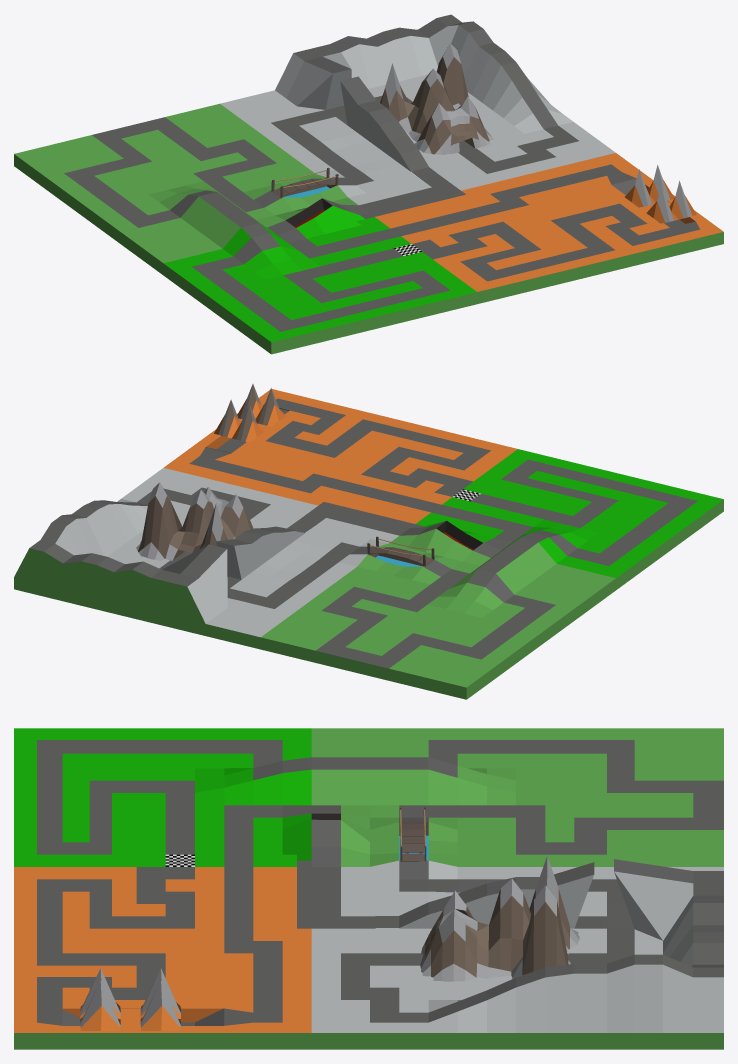
File: sceneCourse2_1.fbx
3 views of the same model, one above another, from view 1: azimuth 30°, elevation 25°; view 2: azimuth 150°, elevation 25°; view 3: azimuth 270°, elevation 25° (orthographic). The views are drawn at different scales.
Visible parts, largest first — view 1: Plane, Mountain, MountainUnder; view 2: Plane, Mountain, MountainUnder; view 3: Plane, Mountain, MountainUnder.
Boxes of the visible parts, left/top/right/bottom form: Plane: left=14, top=14, right=723, bottom=354; Mountain: left=380, top=43, right=493, bottom=154; MountainUnder: left=625, top=165, right=696, bottom=223; Plane: left=14, top=389, right=723, bottom=699; Mountain: left=136, top=482, right=253, bottom=560; MountainUnder: left=214, top=384, right=285, bottom=442; Plane: left=14, top=728, right=723, bottom=1049; Mountain: left=420, top=856, right=579, bottom=981; MountainUnder: left=80, top=968, right=180, bottom=1030.
Size of the model in its own units: 14586 by 2675 by 14363.
Materials: 16 (3 with a texture image).
